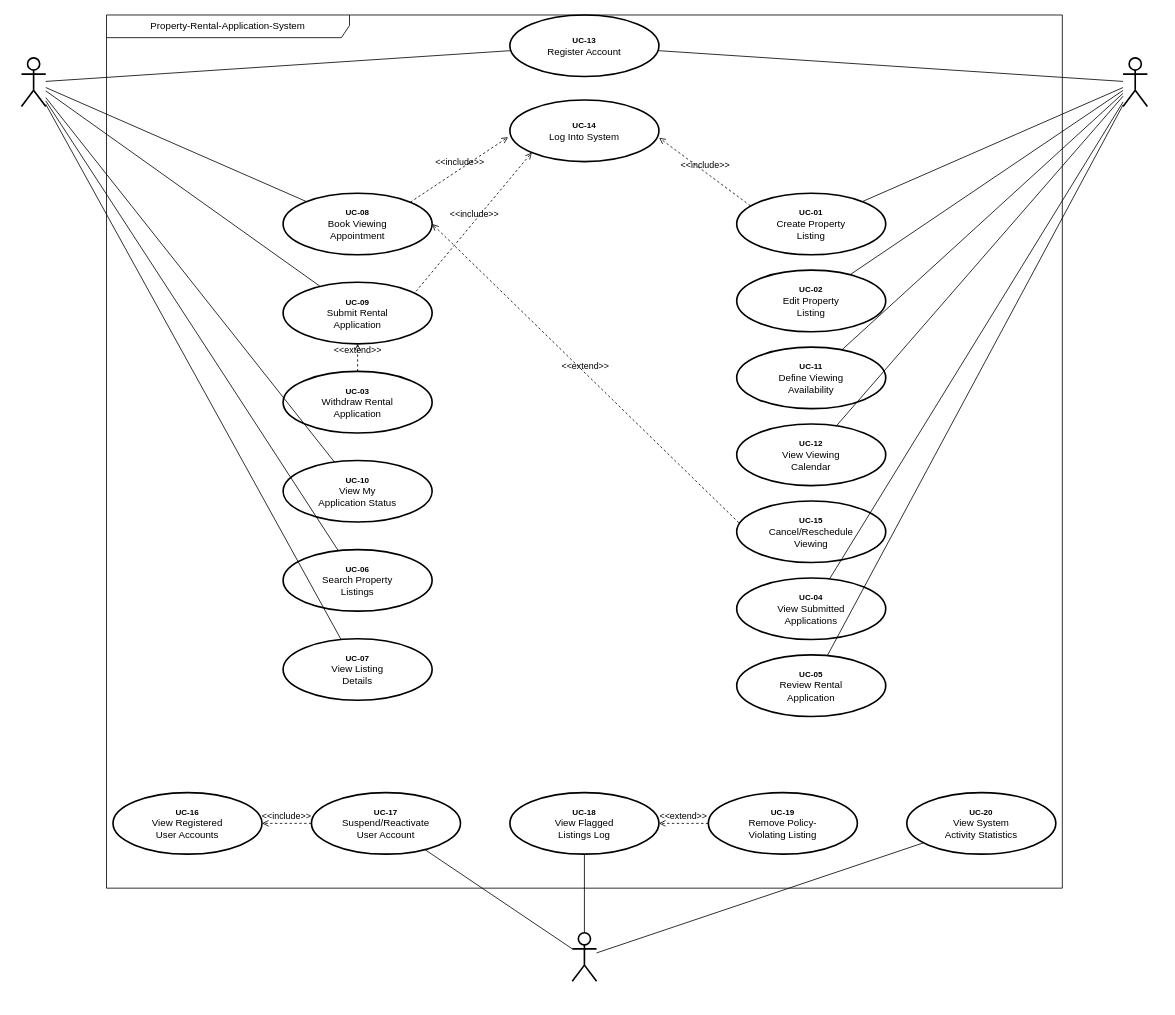
The diagram is 1175 pixels wide and 1015 high, and some of its shapes have lost their labels. Here are the shapes that lost their labels. From the top down, the centre of each, then its label:
At pixel 33 82: "Tenant".
At pixel 1135 82: "Landlord".
At pixel 584 957: "Admin".
